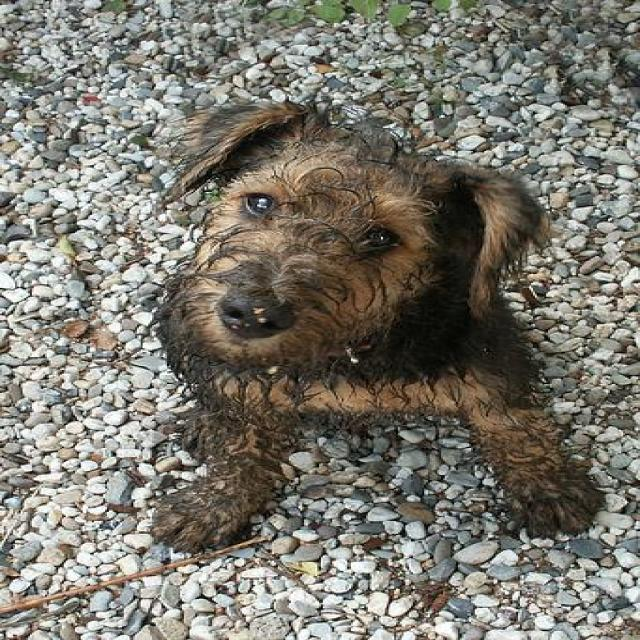airedale: (152, 100, 606, 553)
